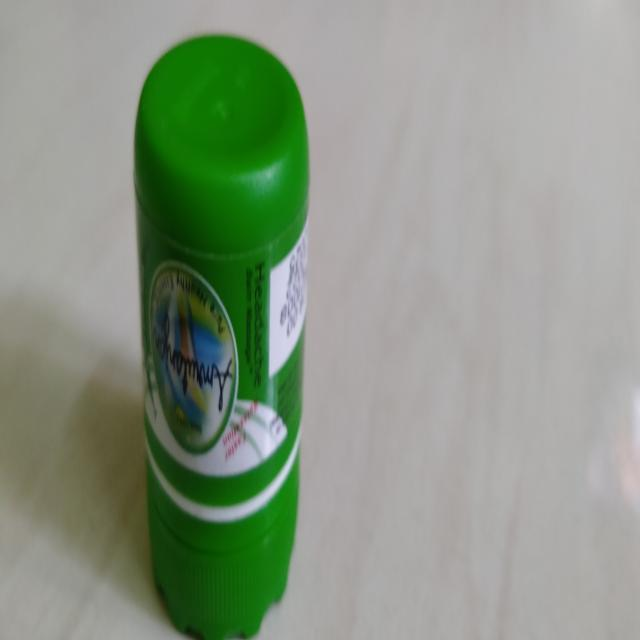eucalyptus oil: (141, 28, 309, 640)
